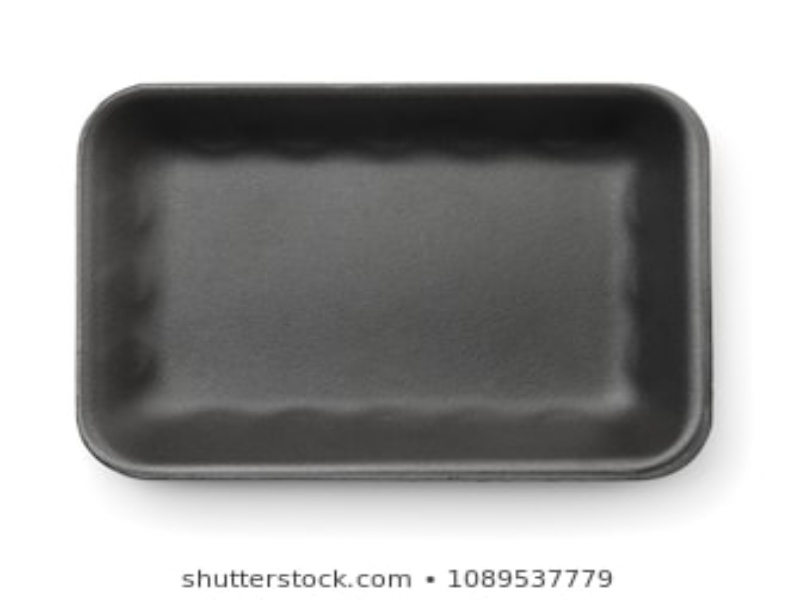plastic-tray: (66, 73, 735, 486)
